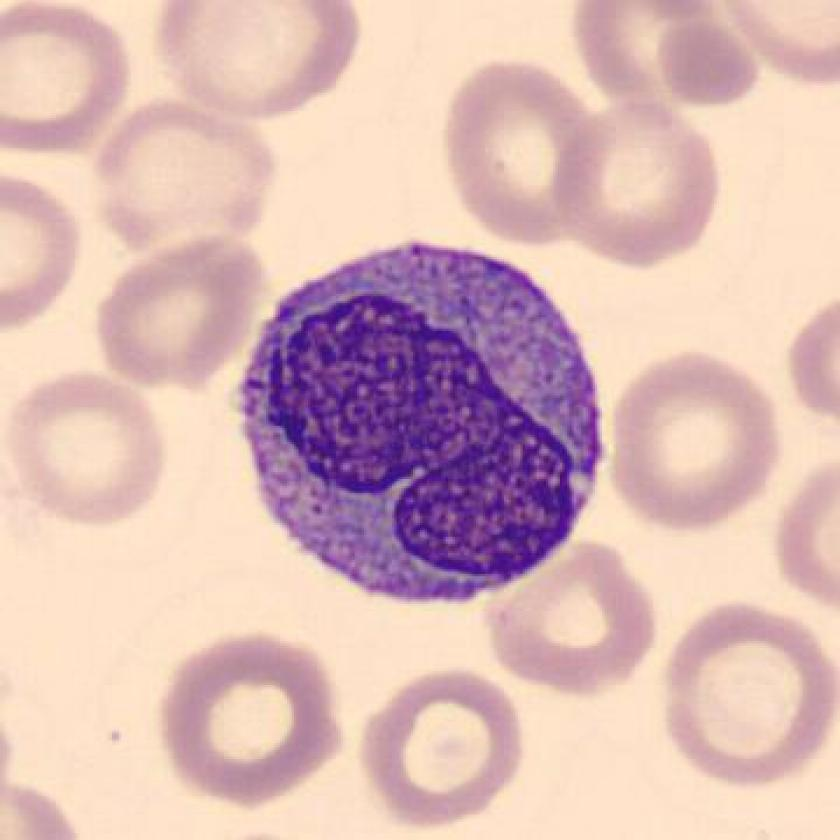monocyte: (230, 212, 624, 628)
